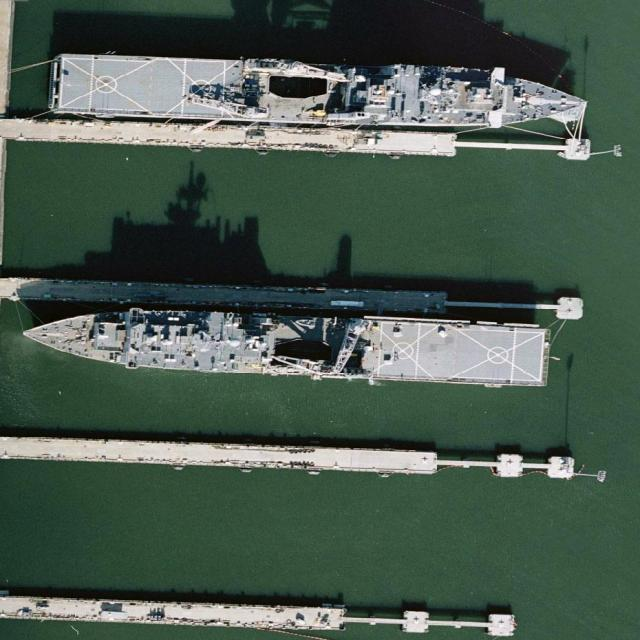Dock: (6, 116, 457, 158), (2, 276, 447, 313), (2, 438, 437, 471), (2, 597, 345, 632)
Landing: (19, 299, 554, 391), (53, 50, 587, 137)
